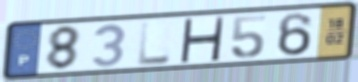3: (90, 21, 128, 69)
5: (229, 13, 268, 61)
6: (277, 11, 315, 57)
8: (45, 23, 83, 72)
H: (177, 16, 227, 63)
L: (137, 19, 173, 68)
